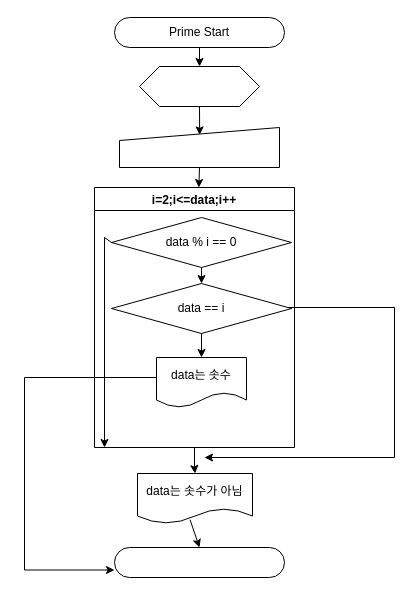
Some shapes in this 420 by 596 pixel diagram are drawn without their labels. Each missing label, with the centre of its shape:
data ?: (x=199, y=147)
END: (x=199, y=562)
int i int data: (x=199, y=86)
